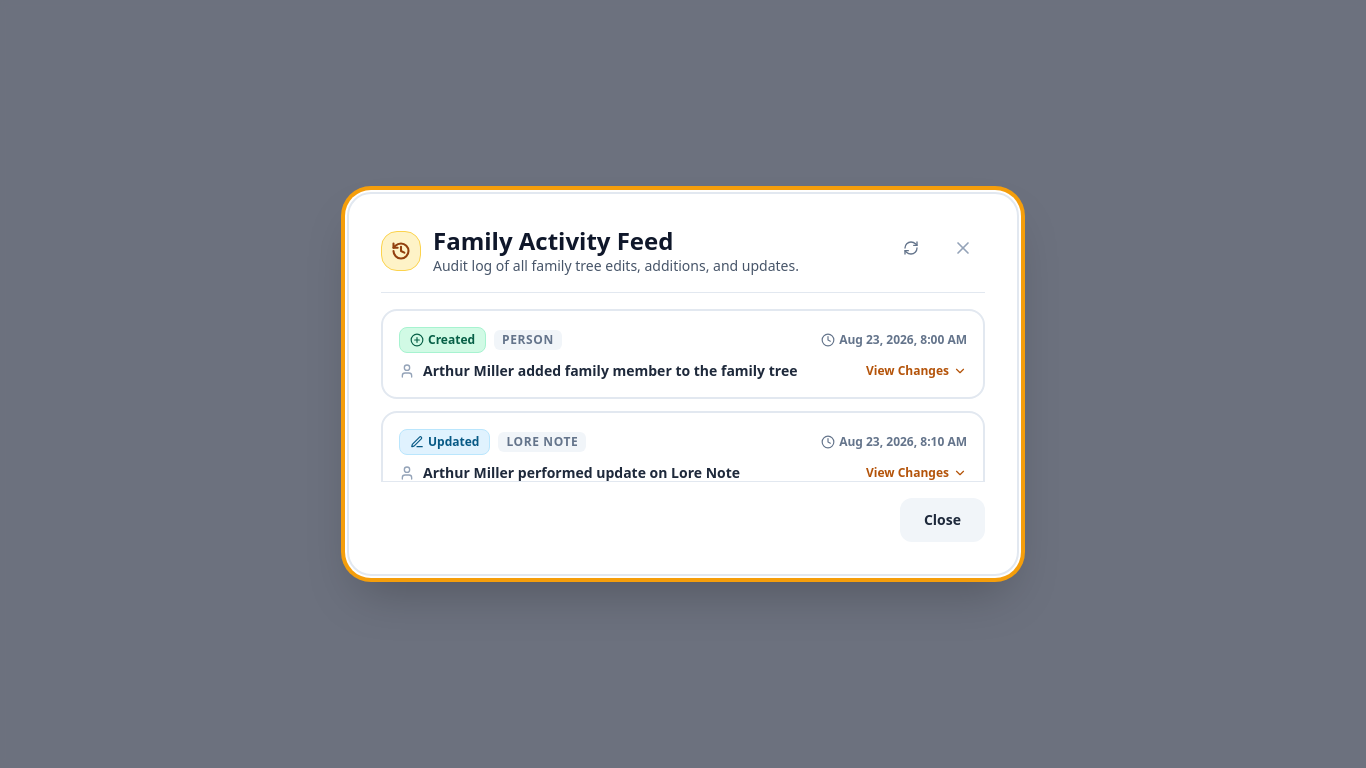
Test case: ActivityFeedModal › toggles changes diff view on click
Check: the text "View Changes" below "Aug 23, 2026, 8:00 AM" is shown, box [866,362,949,379]
Click first view changes button (log 1)
Click the button "View Changes" below "Aug 23, 2026, 8:00 AM". click: point(916, 371)
box: [866,363,967,379]
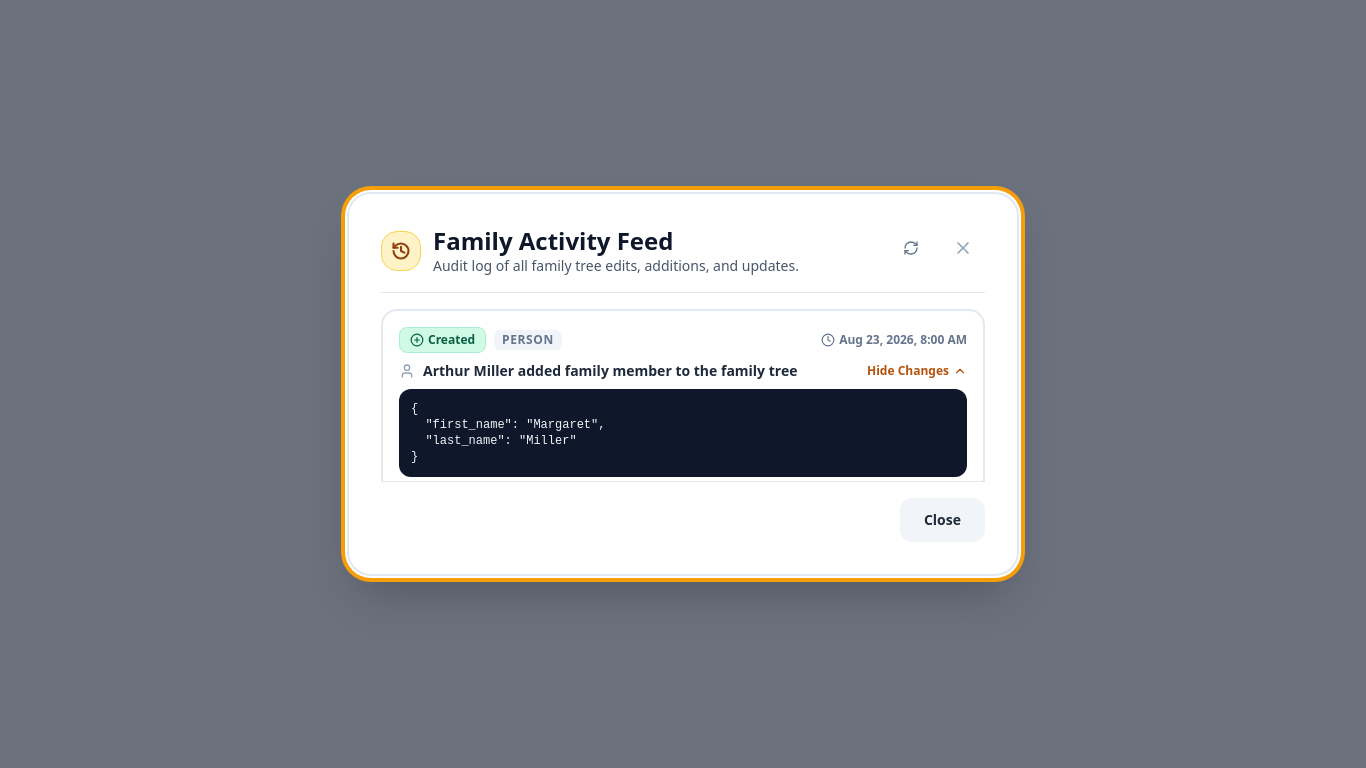
Check: the text "{ \"first_name\": \"Margaret\", \"last_name\": \"Miller\" }" is shown, box [411,402,605,464]
